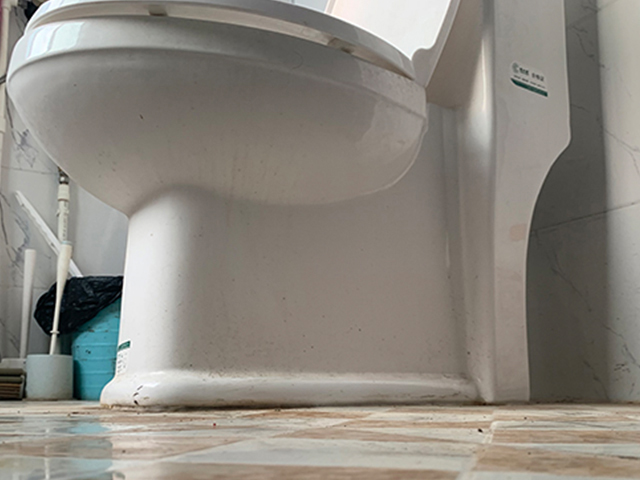closestool: (3, 1, 573, 410)
trashcan: (63, 275, 122, 402)
